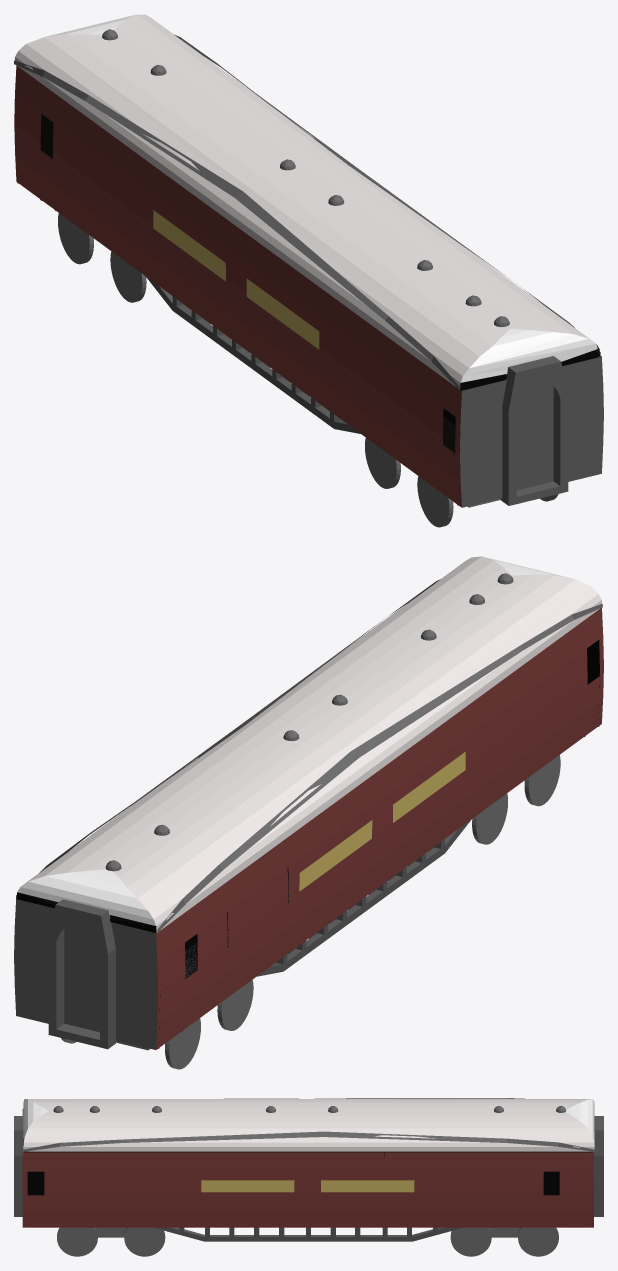
The model's file is lner-gresley-express-mail-m.dae.
3 renders of one model, top to bottom at view 1: azimuth 30°, elevation 25°; view 2: azimuth 150°, elevation 25°; view 3: azimuth 270°, elevation 25°, orthographic. The views are drawn at different scales.
Visible parts, largest first — view 1: Suzanne_001, Plane_358, Plane_070, Tube_002, Plane_017, Plane_326, Suzanne_004, Plane_359, Plane_357, Plane_332, Plane_276, Plane_384 (+13 smaller); view 2: Suzanne_001, Plane_358, Plane_001, Tube_004, Plane_017, Plane_326, Suzanne_004, Plane_359, Plane_357, Plane_332, Plane_276, Plane_383 (+12 smaller); view 3: Suzanne_001, Plane_007, Plane_361, Plane, Plane_006, Suzanne_003, Plane_242, Plane_005, Plane_019, Plane_158, Plane_382, Plane_381 (+27 smaller).
Boxes of the visible parts, x1,y1,x2,y2 form: Suzanne_001: [15, 14, 599, 389]; Plane_358: [14, 138, 461, 507]; Plane_070: [460, 356, 603, 507]; Tube_002: [500, 356, 568, 505]; Plane_017: [16, 80, 434, 400]; Plane_326: [176, 213, 429, 434]; Suzanne_004: [14, 60, 459, 389]; Plane_359: [15, 72, 461, 404]; Plane_357: [14, 131, 459, 463]; Plane_332: [179, 185, 441, 382]; Plane_276: [85, 131, 116, 203]; Plane_384: [246, 278, 319, 349]; Suzanne_001: [16, 556, 601, 933]; Plane_358: [156, 681, 603, 1049]; Plane_001: [14, 899, 158, 1049]; Tube_004: [48, 899, 115, 1049]; Plane_017: [158, 641, 576, 961]; Plane_326: [321, 659, 573, 879]; Suzanne_004: [157, 603, 602, 932]; Plane_359: [156, 614, 602, 947]; Plane_357: [157, 673, 603, 1006]; Plane_332: [319, 622, 581, 820]; Plane_276: [227, 874, 258, 945]; Plane_383: [299, 820, 372, 891]; Suzanne_001: [23, 1099, 594, 1151]; Plane_007: [22, 1200, 593, 1227]; Plane_361: [64, 1171, 328, 1195]; Plane: [64, 1162, 472, 1171]; Plane_006: [22, 1157, 593, 1161]; Suzanne_003: [23, 1131, 594, 1151]; Plane_242: [466, 1162, 541, 1195]; Plane_005: [22, 1195, 593, 1199]; Plane_019: [24, 1151, 590, 1195]; Plane_158: [50, 1152, 383, 1157]; Plane_382: [321, 1180, 414, 1192]; Plane_381: [201, 1180, 294, 1192].
Bounding box in the file's own units: 2.09 × 11.39 × 2.82.
